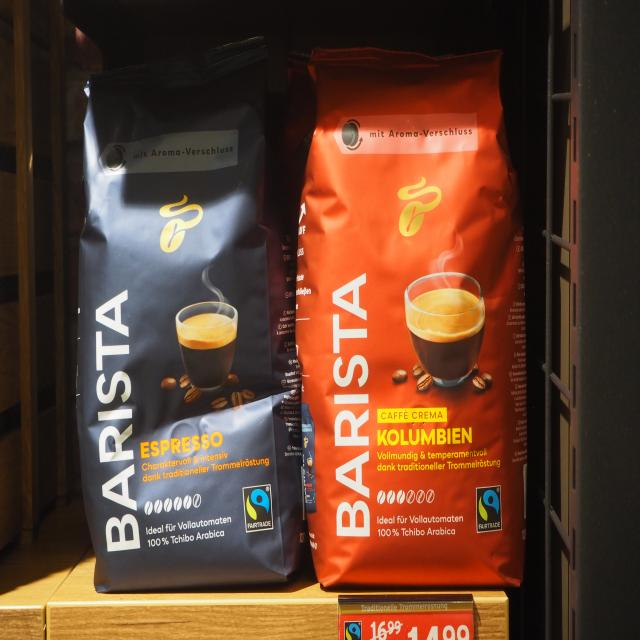Barista Espresso: (71, 26, 307, 596)
Barista Kolumbien: (290, 40, 532, 592)
